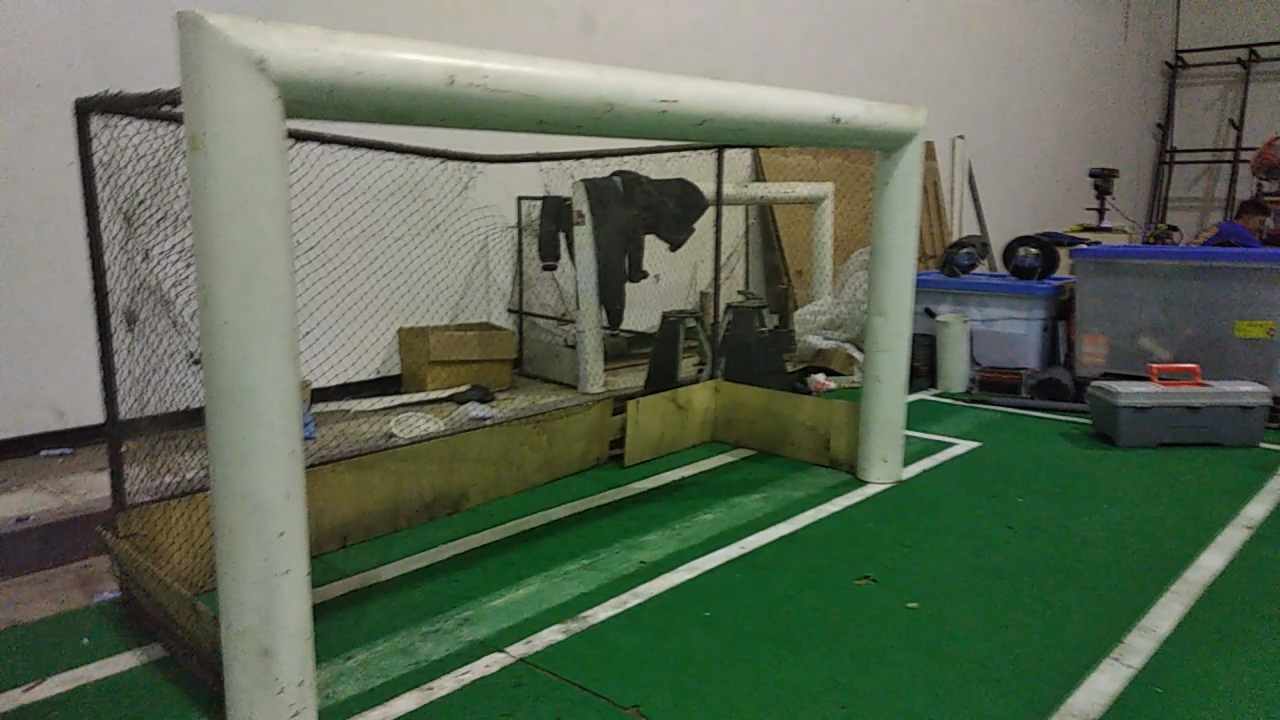gawang: (165, 3, 939, 708)
